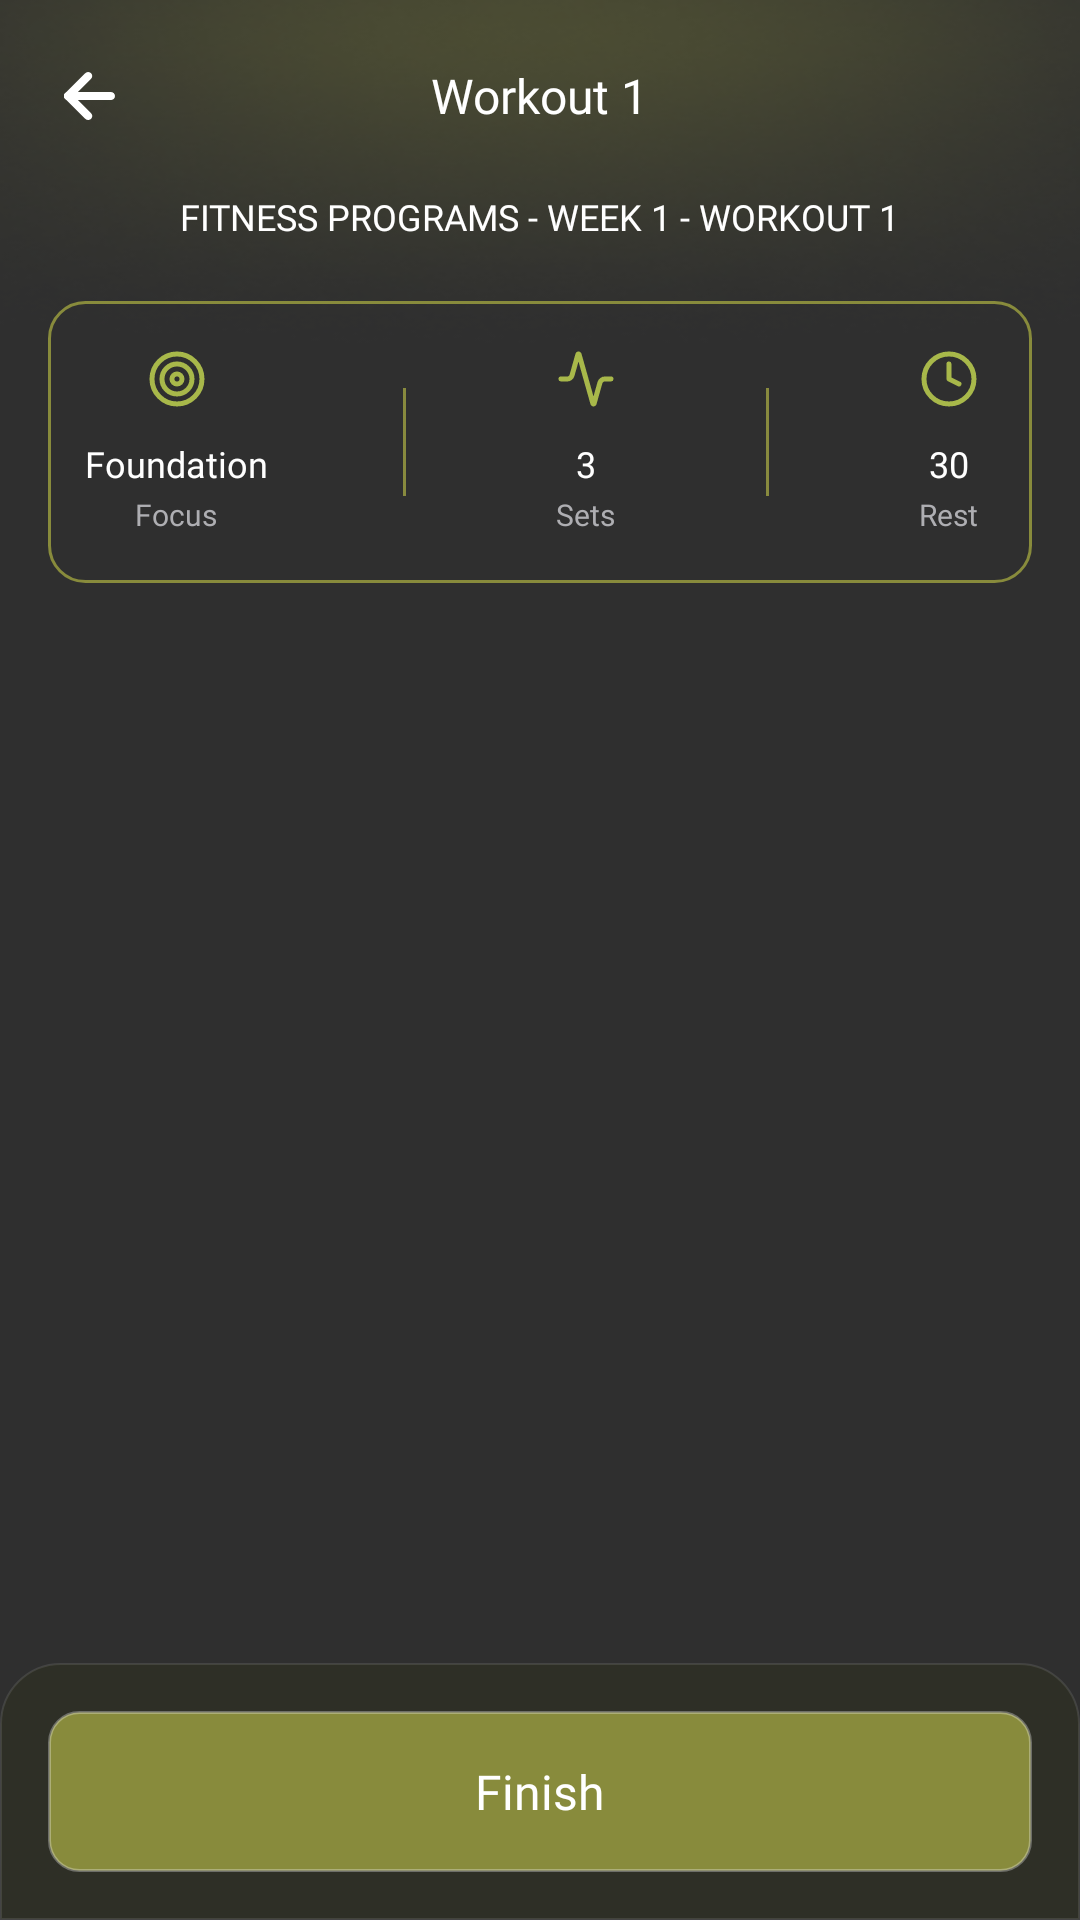

Icon click points for this 1080px x 1920px phone screenshot, format point (x, y):
back arrow: point (89, 96)
time: point (949, 379)
